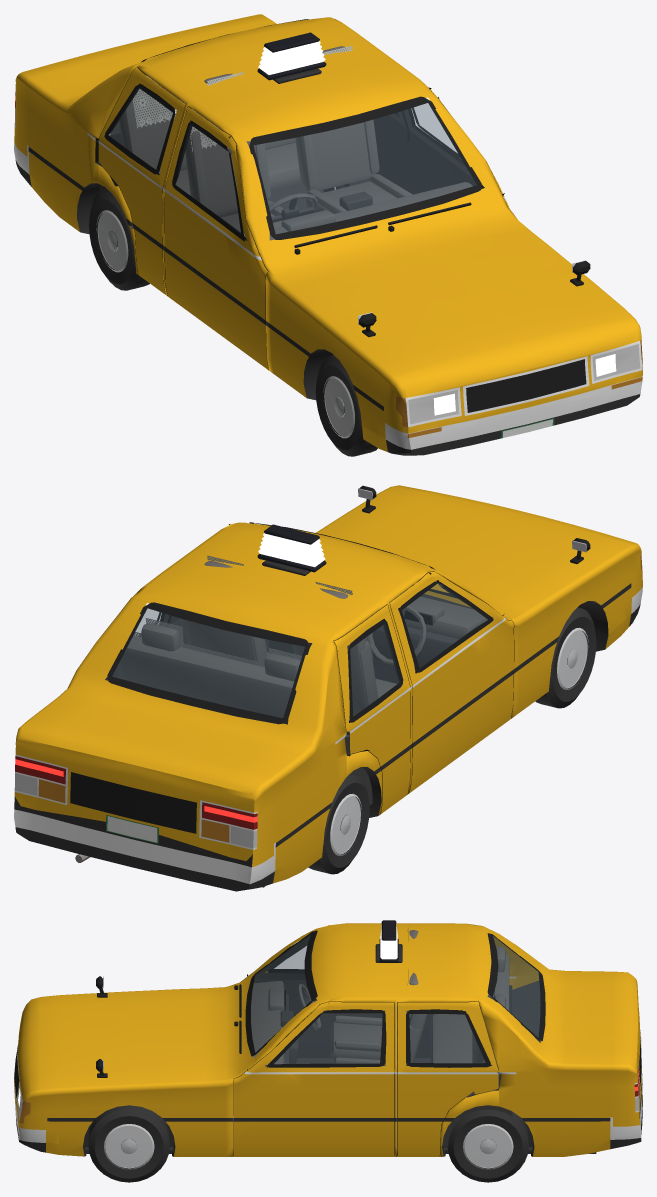
File: city-taxi.glb
3 renders of one model, top to bottom at view 1: azimuth 30°, elevation 25°; view 2: azimuth 150°, elevation 25°; view 3: azimuth 270°, elevation 25°, orthographic. The views are drawn at different scales.
Visible parts, largest first — view 1: body, glass_windscreen, interior, door_FR_body, door_RR_body, glass_front_R, glass_rear_R, wheel_FR_mesh, wheel_RR_mesh, roof_sign, door_FL_body, lace_covers (+2 smaller); view 2: body, interior, glass_rear, door_FR_body, door_RR_body, glass_front_R, glass_rear_R, wheel_FR_mesh, wheel_RR_mesh, roof_sign, lace_covers, steering_wheel_mesh; view 3: body, door_FL_body, interior, door_RL_body, glass_front_L, wheel_FL_mesh, glass_windscreen, wheel_RL_mesh, glass_rear_L, glass_rear, door_FR_body, roof_sign.
Boxes of the visible parts, x1=… form: body: x1=14, y1=14, x2=642, y2=455; glass_windscreen: x1=249, y1=96, x2=481, y2=239; interior: x1=99, y1=46, x2=472, y2=243; door_FR_body: x1=164, y1=106, x2=268, y2=370; door_RR_body: x1=95, y1=66, x2=185, y2=294; glass_front_R: x1=172, y1=120, x2=244, y2=241; glass_rear_R: x1=104, y1=84, x2=175, y2=174; wheel_FR_mesh: x1=315, y1=355, x2=377, y2=456; wheel_RR_mesh: x1=89, y1=191, x2=149, y2=290; roof_sign: x1=257, y1=32, x2=326, y2=83; door_FL_body: x1=404, y1=82, x2=512, y2=212; lace_covers: x1=133, y1=46, x2=352, y2=151; body: x1=14, y1=485, x2=642, y2=891; interior: x1=115, y1=561, x2=487, y2=826; glass_rear: x1=107, y1=602, x2=309, y2=724; door_FR_body: x1=389, y1=571, x2=513, y2=792; door_RR_body: x1=333, y1=604, x2=410, y2=813; glass_front_R: x1=400, y1=581, x2=493, y2=672; glass_rear_R: x1=348, y1=619, x2=403, y2=722; wheel_FR_mesh: x1=535, y1=607, x2=596, y2=708; wheel_RR_mesh: x1=308, y1=775, x2=369, y2=874; roof_sign: x1=257, y1=524, x2=326, y2=575; lace_covers: x1=134, y1=555, x2=372, y2=667; steering_wheel_mesh: x1=368, y1=605, x2=426, y2=664; body: x1=14, y1=923, x2=642, y2=1156; door_FL_body: x1=234, y1=1001, x2=394, y2=1156; interior: x1=251, y1=930, x2=540, y2=1146; door_RL_body: x1=397, y1=1001, x2=501, y2=1156; glass_front_L: x1=266, y1=1009, x2=386, y2=1067; wheel_FL_mesh: x1=88, y1=1105, x2=169, y2=1182; glass_windscreen: x1=245, y1=930, x2=317, y2=1056; wheel_RL_mesh: x1=447, y1=1109, x2=528, y2=1182; glass_rear_L: x1=406, y1=1009, x2=490, y2=1067; glass_rear: x1=487, y1=933, x2=545, y2=1040; door_FR_body: x1=247, y1=925, x2=328, y2=985; roof_sign: x1=375, y1=920, x2=402, y2=962.
Bounding box in the file's own units: 1.74 × 1.72 × 4.7.
26 materials, 1 textured.
